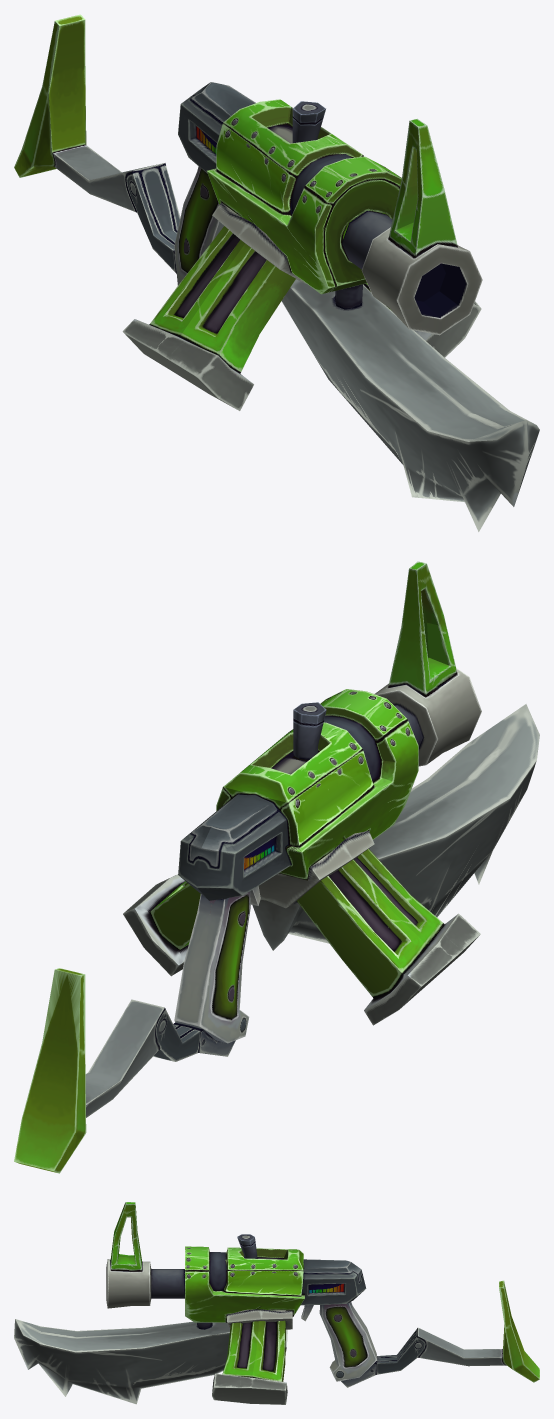
The model's file is gun_4.fbx.
3 renders of one model, top to bottom at view 1: azimuth 30°, elevation 25°; view 2: azimuth 150°, elevation 25°; view 3: azimuth 270°, elevation 25°, orthographic. The views are drawn at different scales.
Visible parts, largest first — view 1: gun_4; view 2: gun_4; view 3: gun_4.
Boxes of the visible parts, x1,y1,x2,y2 form: gun_4: (14,14,539,531); gun_4: (14,561,539,1173); gun_4: (14,1202,539,1404).
Bounding box in the file's own units: 10.93 × 13.17 × 31.16.
1 material, 1 textured.
